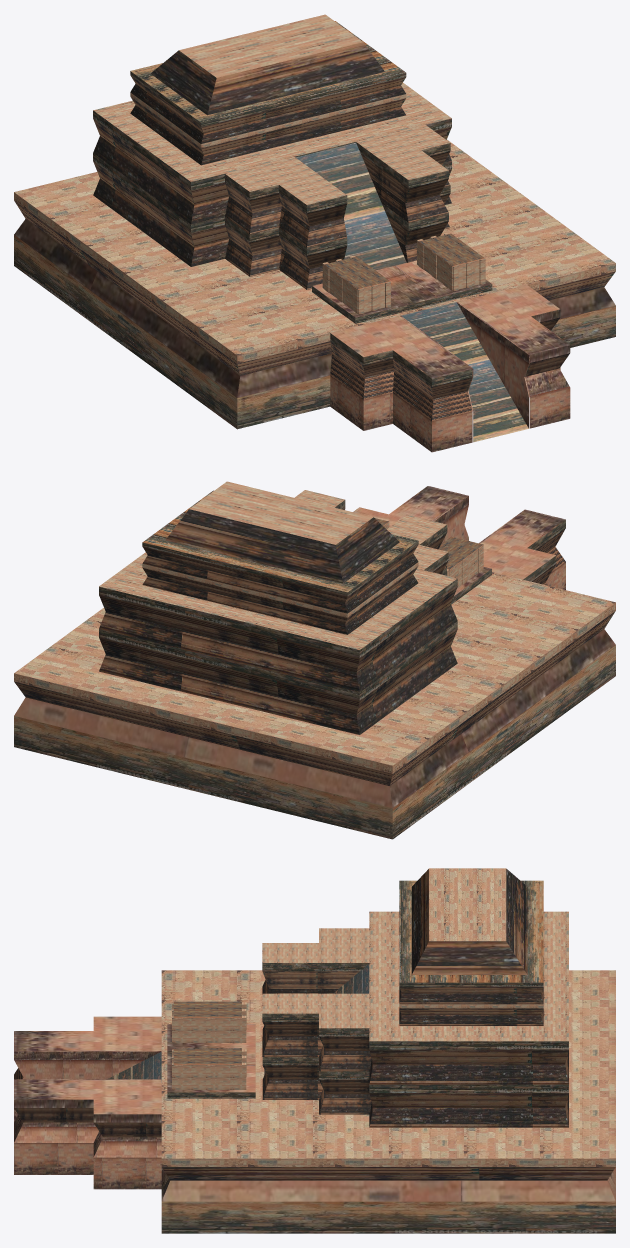
The model's file is candimuarojambi.glb.
The picture shows the model from 3 angles, top to bottom: view 1: azimuth 30°, elevation 25°; view 2: azimuth 150°, elevation 25°; view 3: azimuth 270°, elevation 25°; orthographic projection.
Visible parts, largest first — view 1: Material3 (×10), Material2 (×8); view 2: Material3 (×8), Material2 (×5); view 3: Material3 (×10), Material2 (×7).
Boxes of the visible parts, x1=… form: Material3 (×10): x1=14, y1=14, x2=615, y2=452; Material2 (×8): x1=14, y1=21, x2=615, y2=442; Material3 (×8): x1=14, y1=481, x2=615, y2=839; Material2 (×5): x1=14, y1=490, x2=615, y2=808; Material3 (×10): x1=14, y1=868, x2=615, y2=1233; Material2 (×7): x1=14, y1=869, x2=615, y2=1201.
Bounding box in the file's own units: 4779 × 2749 × 6462.
Materials: 29 (24 with a texture image).
